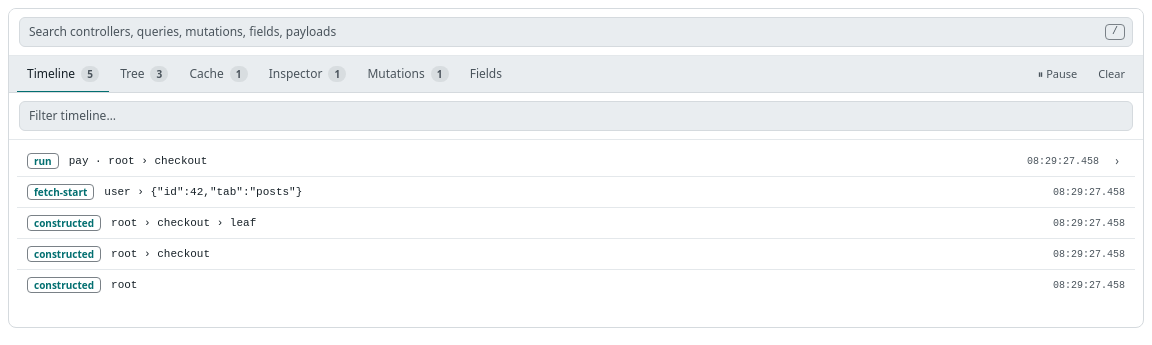
Test: the omnibox — T8.3 › groups results by kind: a controller, a query by key content, a payload value
The image size is (1152, 345).
Type "checkout" into the dropdown named "Search everything" at {"x": 576, "y": 32}, box [19, 17, 1133, 47]
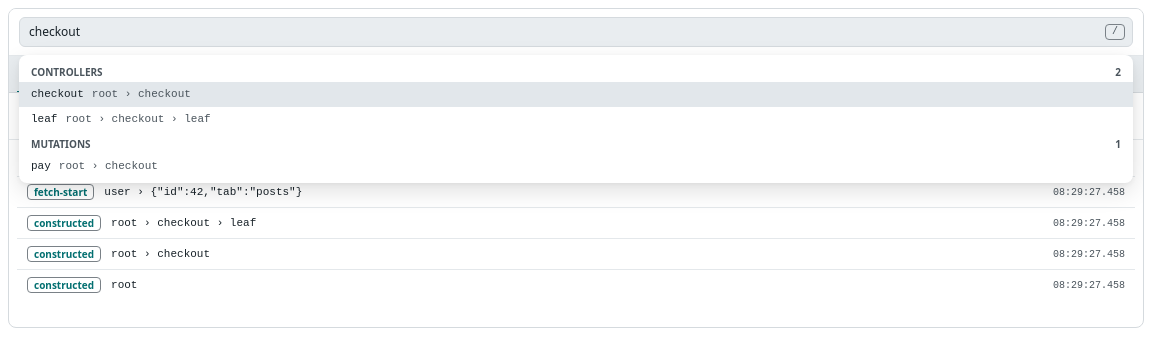
Expected: the element "Controllers" is shown, [19, 59, 1133, 131]
Expected: the option "checkout root › checkout" is shown, [19, 82, 1133, 106]
Replace the text in the dropdown named "Search everything" with "posts" at {"x": 576, "y": 32}, box [19, 17, 1133, 47]
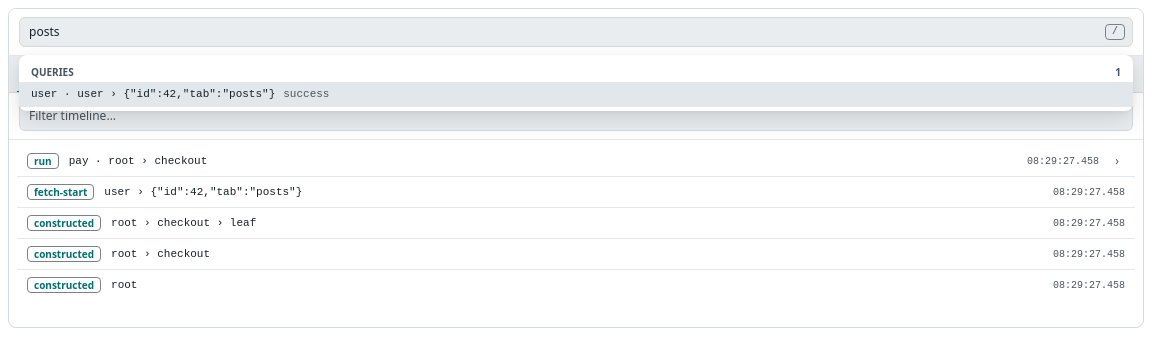
Expected: the element "Queries 1 user · user › {\"id\":42,\"tab\":\"posts\"} success" is shown, [19, 59, 1133, 106]
Replace the text in the dropdown named "Search everything" with "zeta-9" at {"x": 576, "y": 32}, box [19, 17, 1133, 47]
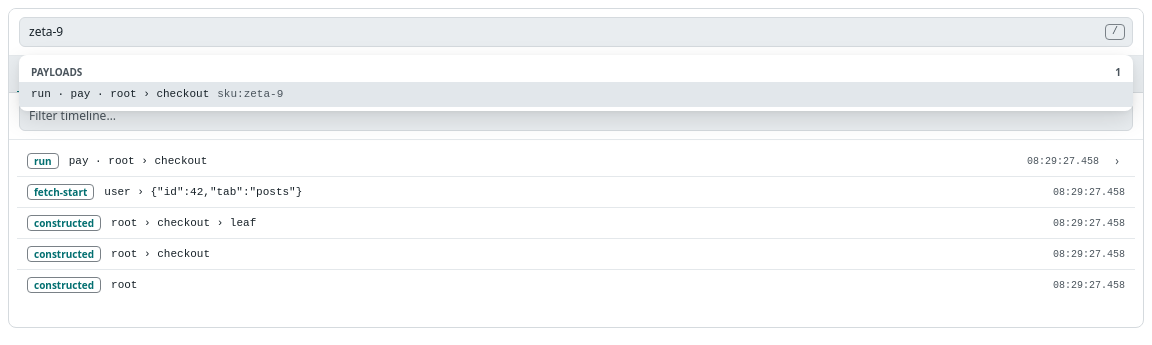
Expected: the element "Payloads 1 run · pay · root › checkout sku:zeta-9" is shown, [19, 59, 1133, 106]
Replace the text in the dropdown named "Search everything" with "nothing-like-this" at {"x": 576, "y": 32}, box [19, 17, 1133, 47]
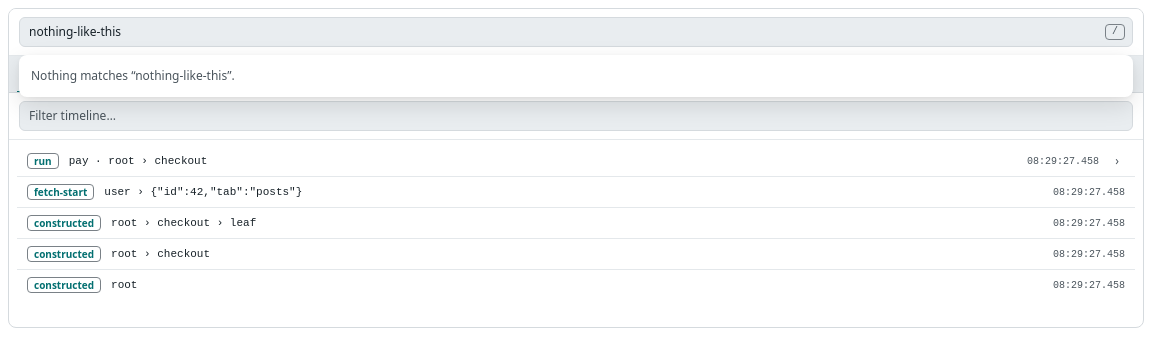
Expected: the list reads "Nothing matches “nothing-like-this”.", [19, 55, 1133, 97]
